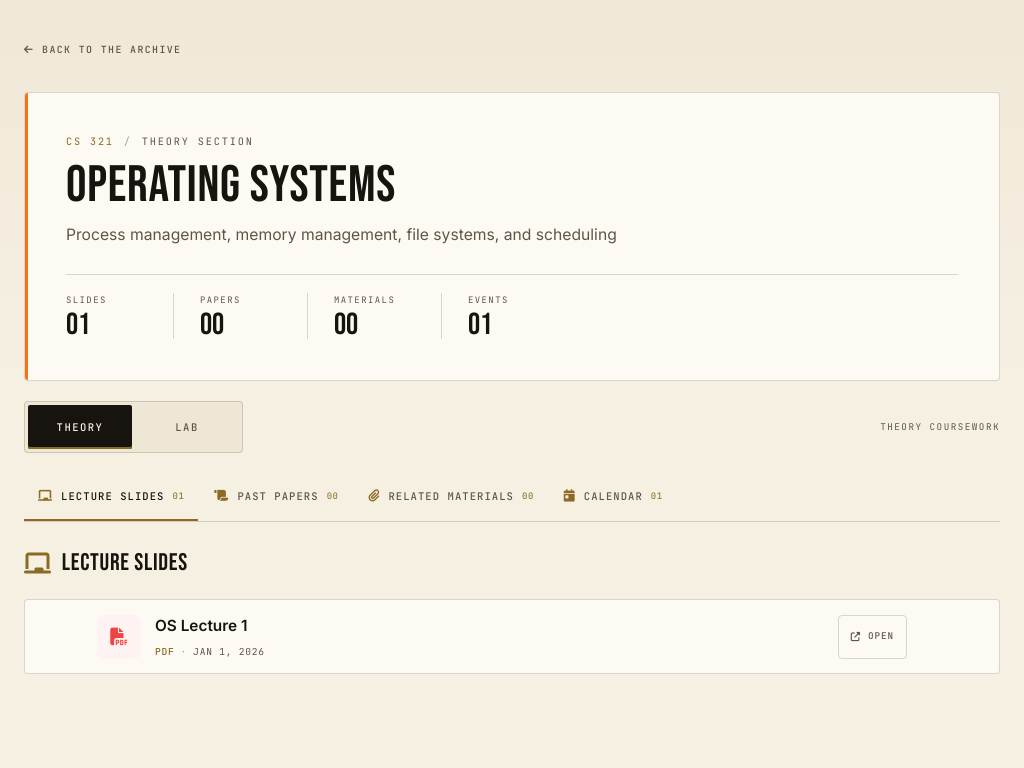
Test: CourseDetail › renders the course calendar tab with events
expect the text "OS Lecture 1" is shown: met, box [155, 616, 247, 635]
Click the tab "Calendar 01" at (613, 497), box [550, 473, 677, 521]
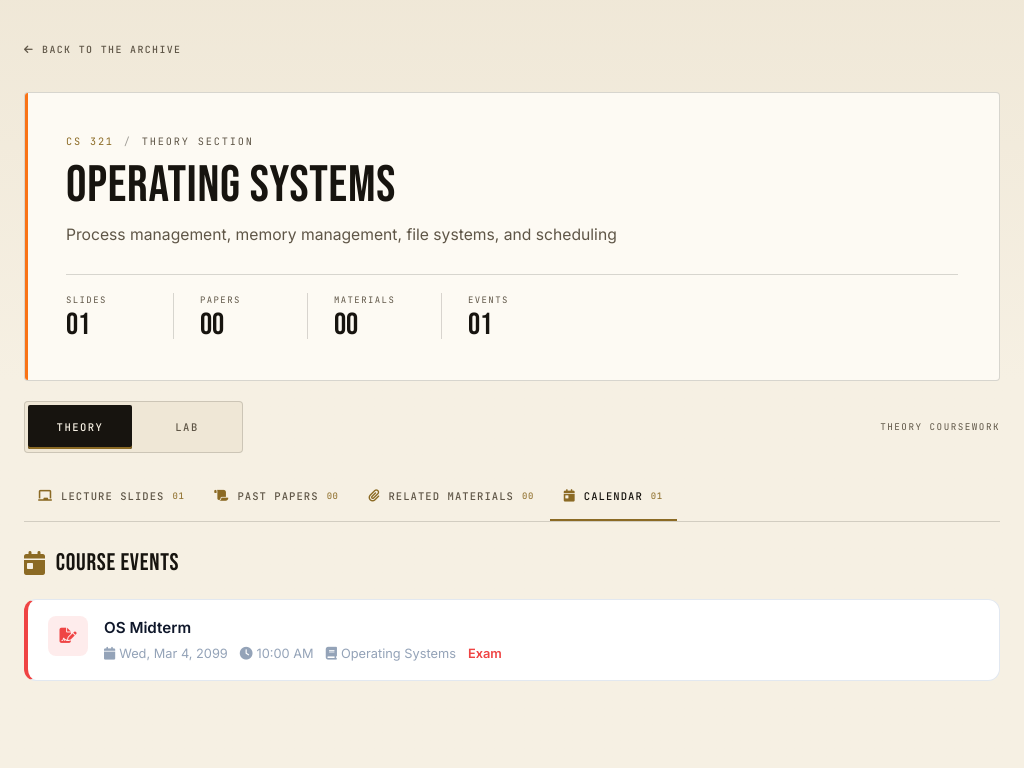
expect the text "OS Midterm" is shown: met, box [104, 618, 191, 637]
expect the text "Exam" is shown: met, box [468, 644, 502, 664]
